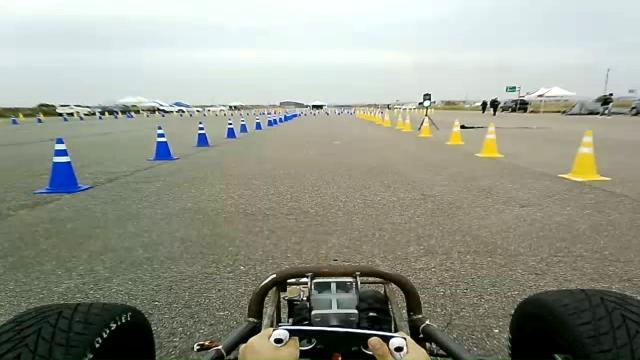blue cone: (32, 137, 93, 194), (146, 125, 179, 161), (192, 121, 212, 147), (224, 118, 238, 139), (239, 115, 249, 132), (254, 116, 262, 130), (266, 114, 274, 126)
yellow cone: (557, 130, 611, 182), (474, 122, 504, 158), (445, 118, 464, 144), (579, 130, 594, 152), (418, 117, 432, 137), (401, 113, 413, 132), (394, 112, 404, 130), (382, 110, 391, 127), (372, 113, 382, 125)
